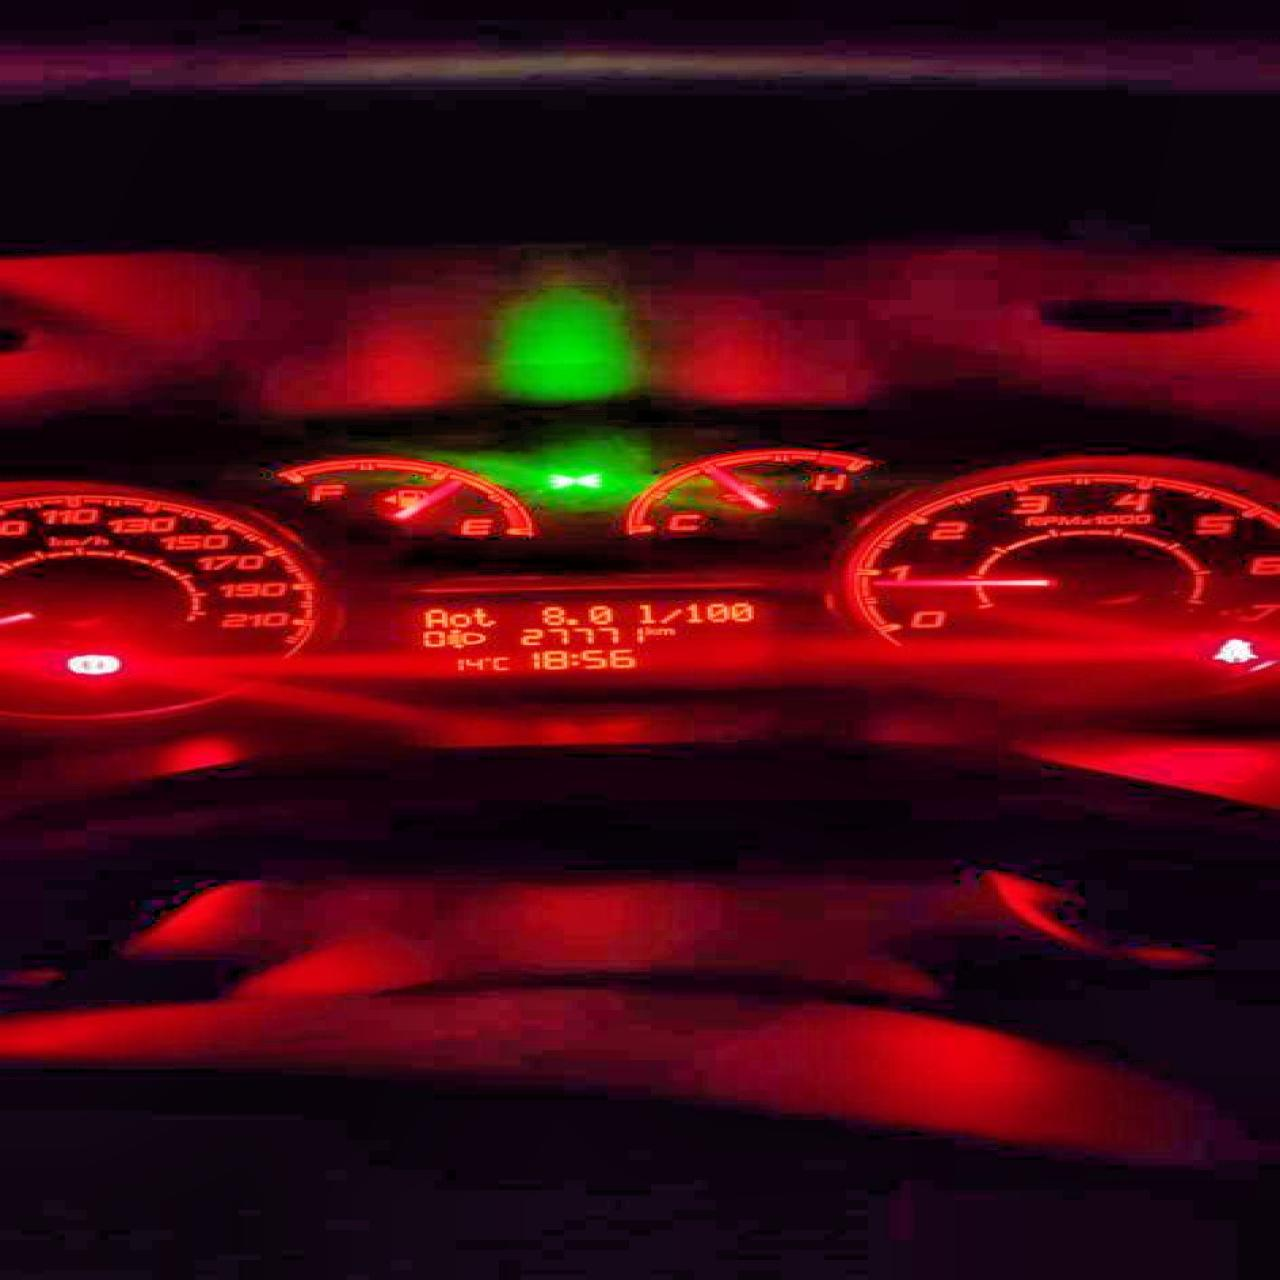-: (561, 618, 578, 625)
0: (586, 604, 613, 624), (702, 602, 729, 621), (727, 601, 751, 621), (417, 631, 442, 648)
1: (683, 601, 700, 622), (452, 656, 464, 670), (529, 651, 537, 669), (632, 625, 640, 642)
2: (518, 627, 543, 645)
4: (463, 658, 483, 670)
5: (578, 649, 605, 669)
6: (607, 647, 634, 667)
7: (570, 626, 594, 644), (545, 626, 567, 644), (597, 626, 618, 642)
8: (539, 649, 566, 670), (539, 605, 564, 625)
X: (469, 606, 496, 627), (421, 607, 448, 627), (654, 605, 681, 622), (638, 601, 654, 624), (448, 613, 469, 627), (491, 655, 508, 670), (654, 626, 675, 635), (566, 653, 578, 667), (642, 626, 654, 634)
odometer: (386, 597, 787, 681)
